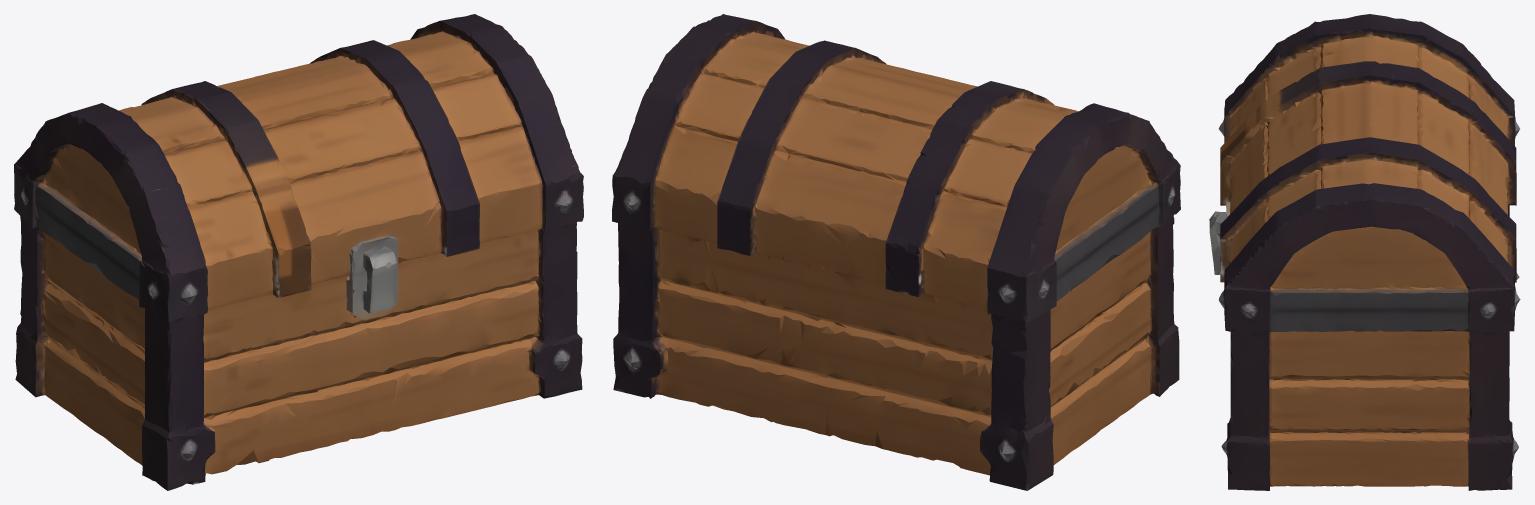
3 renders of one model, left to right at view 1: azimuth 30°, elevation 25°; view 2: azimuth 150°, elevation 25°; view 3: azimuth 270°, elevation 25°, orthographic. The views are drawn at different scales.
Visible parts, largest first — view 1: 176; view 2: 176; view 3: 176.
Part boxes in pixels (x1,y1,x2,y2): 176: [14, 14, 583, 490]; 176: [612, 14, 1180, 490]; 176: [1209, 14, 1520, 490].
Bounding box in the file's own units: 0.9 × 0.6229 × 0.6065.
1 material, 1 textured.
